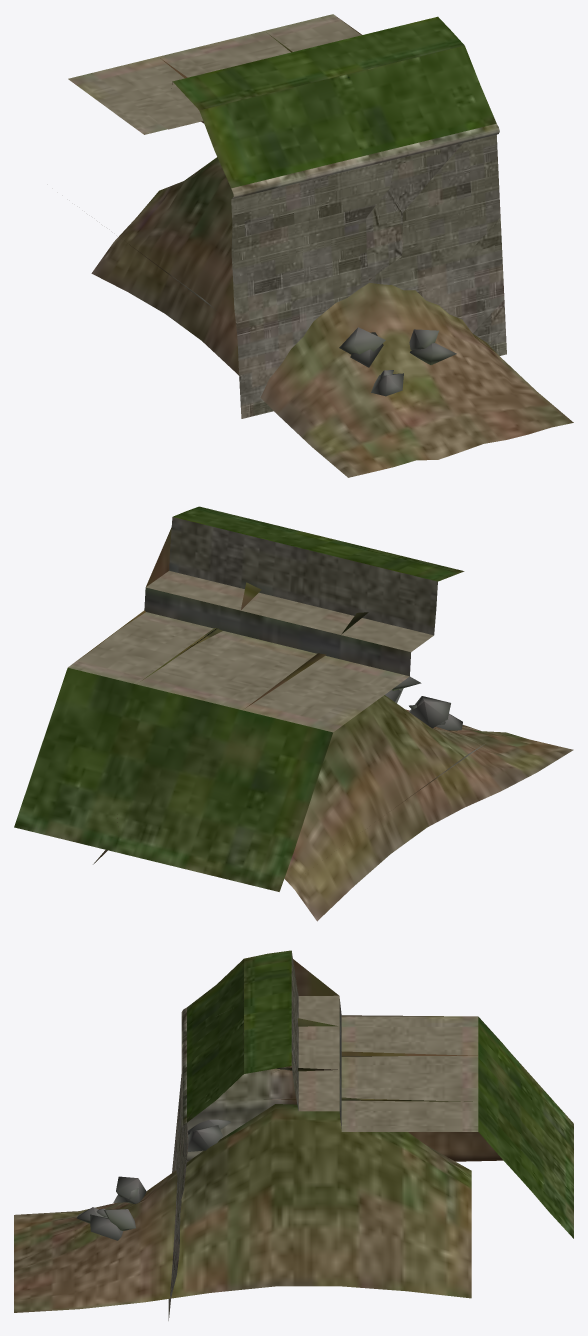
Rendered from starfort_bastion_face_live.glb.
3 views of the same model, one above another, from view 1: azimuth 30°, elevation 25°; view 2: azimuth 150°, elevation 25°; view 3: azimuth 270°, elevation 25° (orthographic). The views are drawn at different scales.
Visible parts, largest first — view 1: breached, intact, cracked; view 2: intact, breached, cracked, endcap_b; view 3: breached, intact, cracked, endcap_a.
Boxes of the visible parts, bbox=[...] form: breached: bbox=[68, 14, 573, 477]; intact: bbox=[91, 16, 506, 418]; cracked: bbox=[144, 14, 506, 355]; intact: bbox=[14, 514, 435, 891]; breached: bbox=[38, 506, 573, 921]; cracked: bbox=[27, 514, 463, 891]; endcap_b: bbox=[73, 527, 171, 663]; breached: bbox=[14, 950, 573, 1312]; intact: bbox=[168, 959, 573, 1320]; cracked: bbox=[168, 953, 573, 1306]; endcap_a: bbox=[182, 959, 443, 1016].
Size of what is drawn, in the model's own units: 6.06 by 6.29 by 12.3.
Materials: 1 (1 with a texture image).
